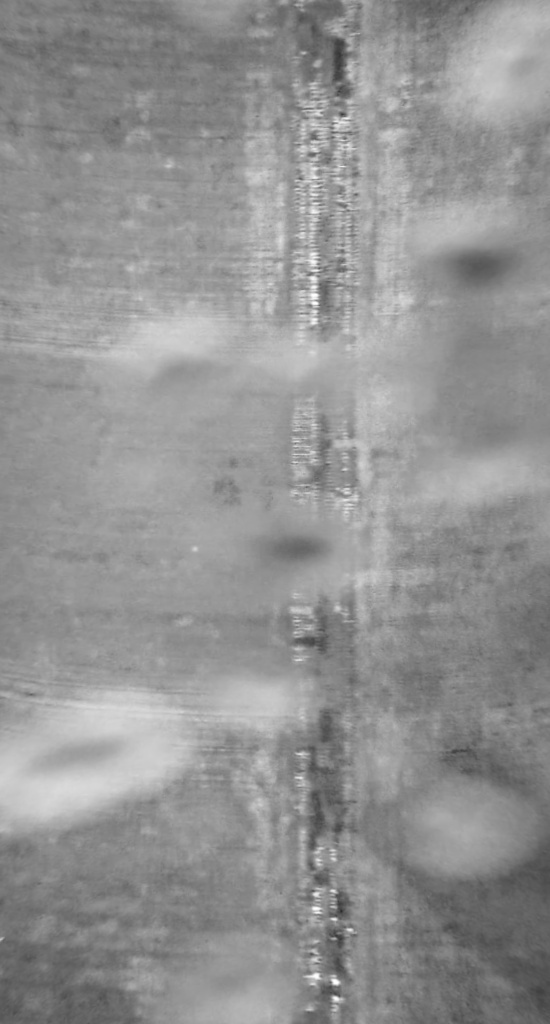splice: (276, 1, 373, 1020)
